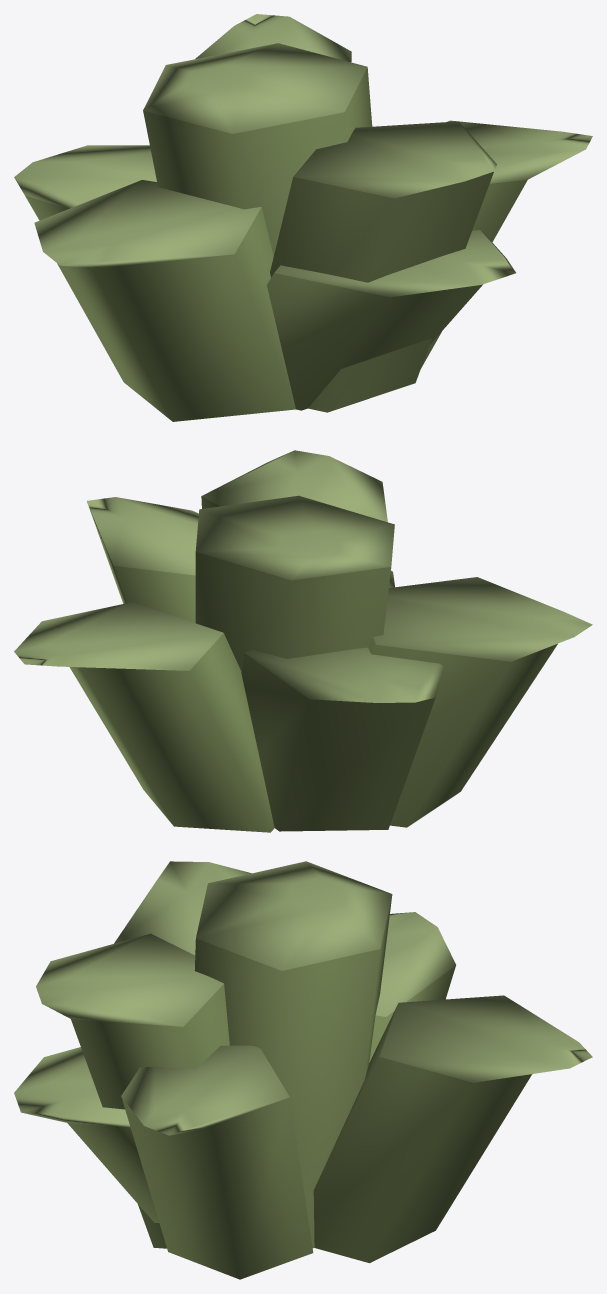
File: gf_clump_00.glb
3 renders of one model, top to bottom at view 1: azimuth 30°, elevation 25°; view 2: azimuth 150°, elevation 25°; view 3: azimuth 270°, elevation 25°, orthographic. The views are drawn at different scales.
Parts seen in each view (by area): view 1: gf_clump_00; view 2: gf_clump_00; view 3: gf_clump_00.
Part boxes in pixels (x1=…): gf_clump_00: x1=14, y1=14, x2=592, y2=421; gf_clump_00: x1=14, y1=450, x2=592, y2=832; gf_clump_00: x1=14, y1=861, x2=592, y2=1279.
Bounding box in the file's own units: 0.4337 × 0.215 × 0.3871.
